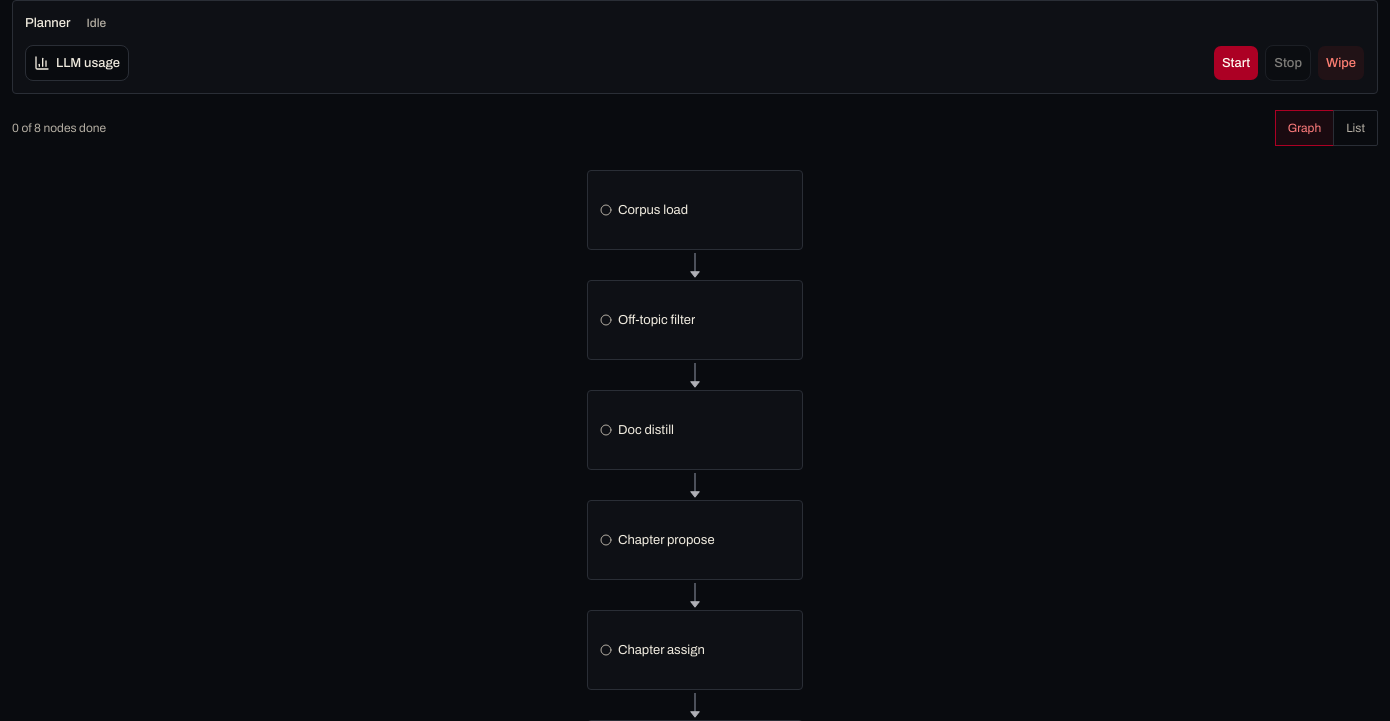
Stopping a run › asks the server to cancel, and the terminal event frees the controls again
Click the button with test id "planner-start". click: coordinates (1236, 63)
box: 1213,45 -> 1259,81
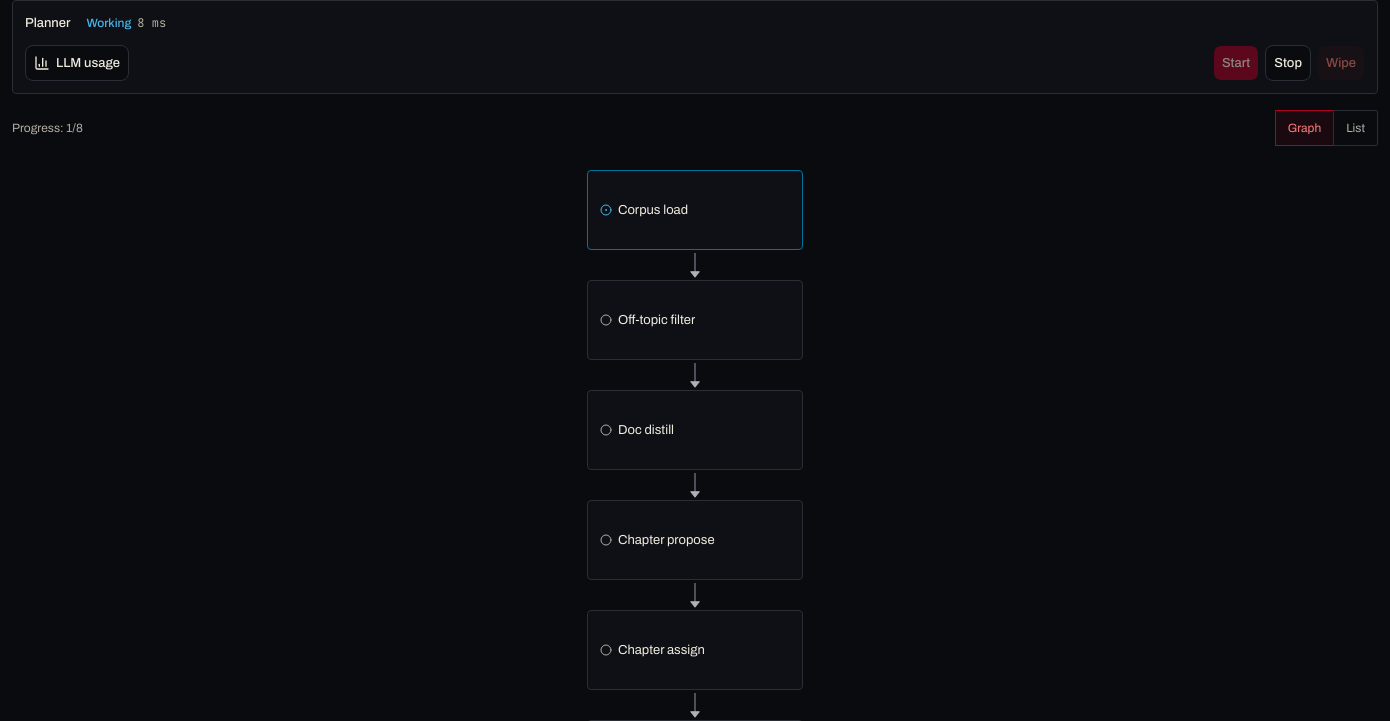
Expected: the button "Stop" is enabled
Click the button "Stop". click: coordinates (1288, 63)
box: 1265,45 -> 1311,81
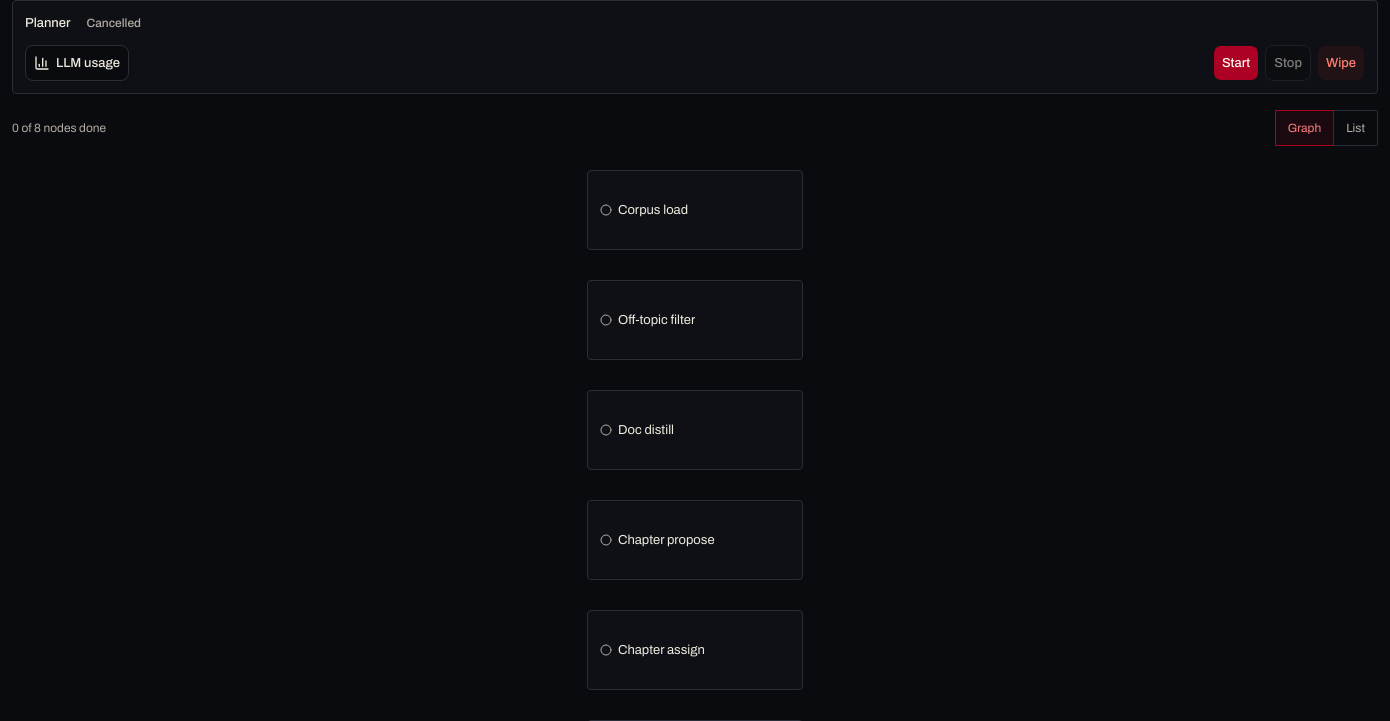
Expected: the button named "Stopping…" is disabled, 1265,45 -> 1311,81
Expected: the button with test id "planner-start" is enabled, 1213,45 -> 1259,81
Expected: the message reads "Cancelled", 86,16 -> 141,30
